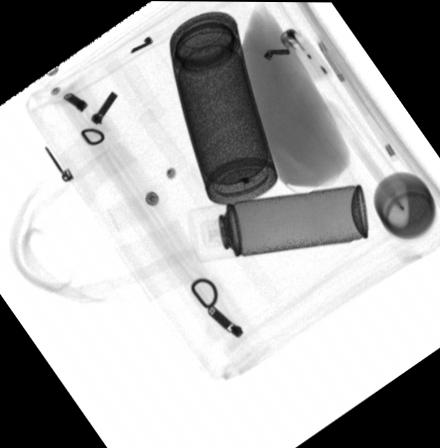Lighter: (279, 26, 334, 83)
Sprayer: (185, 183, 369, 261)
